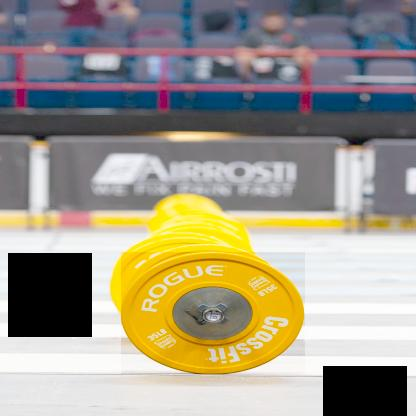barbell: (122, 253, 306, 375)
